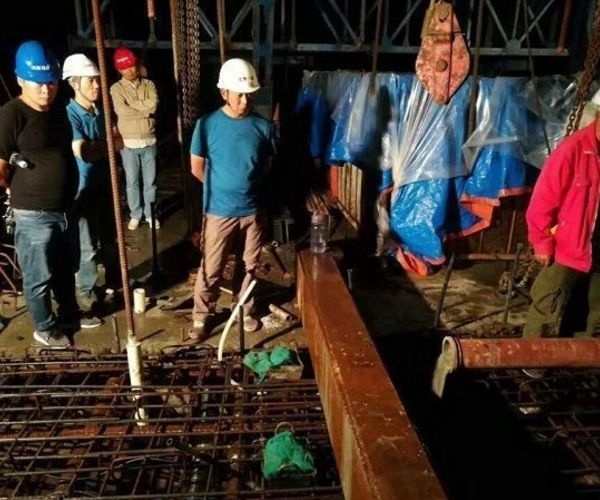blue: (12, 39, 61, 107)
red: (112, 45, 141, 83)
white: (216, 59, 262, 113), (61, 55, 102, 102)
